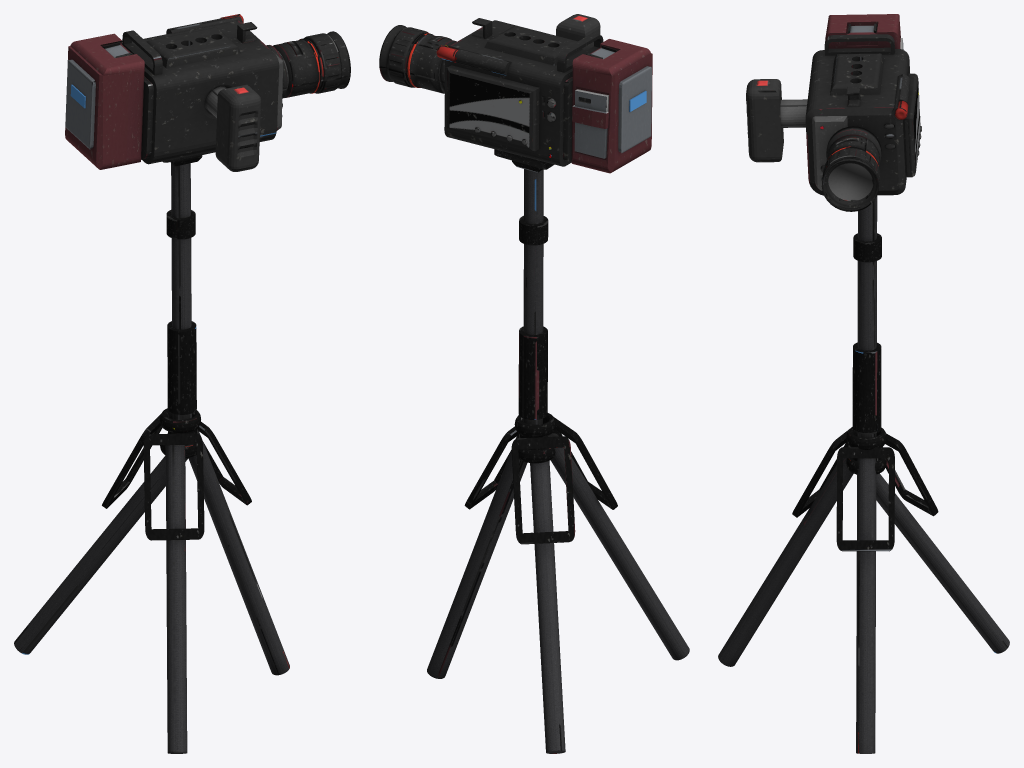
File: camara_completa.obj
3 renders of one model, left to right at view 1: azimuth 30°, elevation 25°; view 2: azimuth 150°, elevation 25°; view 3: azimuth 270°, elevation 25°, orthographic. The views are drawn at different scales.
Parts seen in each view (by area): view 1: cuboCentral, Cube_006, Cylinder_011, Cylinder_012, Cylinder_010, Cylinder_039, Cube_004, Cylinder_017, Cylinder_009, Cube_011, Cube_008, Cube_009 (+2 smaller); view 2: cuboCentral, Cube_006, Cylinder_010, Cylinder_011, Cylinder_012, Cylinder_039, Cylinder_017, Cube_008, Cylinder_009, Cube_011, Cube_009, Cube_004 (+4 smaller); view 3: cuboCentral, Cylinder_012, Cylinder_011, Cylinder_010, Cylinder_039, Cube_004, Cylinder_009, Cylinder_017, Cube_009, Cube_006, Cube_008, Cube_011 (+4 smaller).
Part boxes in pixels (x1,y1,x2,y2): cuboCentral: [122, 20, 283, 164]; Cube_006: [65, 33, 144, 169]; Cylinder_011: [165, 445, 187, 753]; Cylinder_012: [188, 428, 289, 675]; Cylinder_010: [14, 455, 188, 654]; Cylinder_039: [273, 31, 350, 97]; Cube_004: [215, 84, 261, 171]; Cylinder_017: [171, 163, 192, 419]; Cylinder_009: [167, 321, 196, 414]; Cube_011: [143, 433, 204, 540]; Cube_008: [102, 414, 162, 508]; Cube_009: [197, 422, 251, 505]; cuboCentral: [444, 20, 603, 166]; Cube_006: [571, 39, 652, 173]; Cylinder_010: [530, 460, 565, 753]; Cylinder_011: [547, 433, 689, 660]; Cylinder_012: [427, 433, 527, 678]; Cylinder_039: [379, 25, 456, 93]; Cylinder_017: [523, 169, 543, 424]; Cube_008: [511, 436, 575, 544]; Cylinder_009: [518, 326, 547, 419]; Cube_011: [553, 417, 617, 509]; Cube_009: [464, 426, 518, 509]; Cube_004: [556, 14, 600, 45]; cuboCentral: [805, 34, 920, 195]; Cylinder_012: [856, 458, 876, 753]; Cylinder_011: [718, 445, 853, 666]; Cylinder_010: [856, 473, 1009, 653]; Cylinder_039: [821, 134, 880, 211]; Cube_004: [746, 79, 783, 162]; Cylinder_009: [852, 342, 881, 434]; Cylinder_017: [857, 196, 877, 437]; Cube_009: [836, 447, 894, 551]; Cube_006: [825, 14, 903, 49]; Cube_008: [882, 433, 938, 516]; Cube_011: [792, 429, 849, 517].
Size of the model in its own units: 4.25 by 10.67 by 4.32.
Materials: 1 (1 with a texture image).
